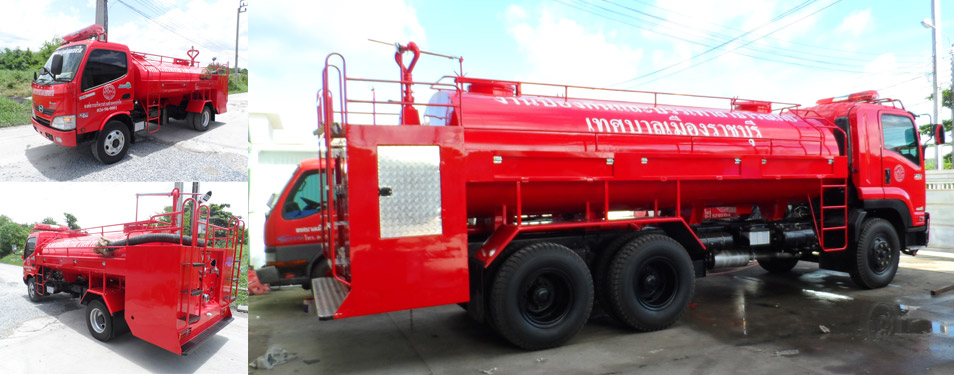truck: (320, 50, 937, 349), (19, 214, 236, 359), (32, 23, 232, 164)
